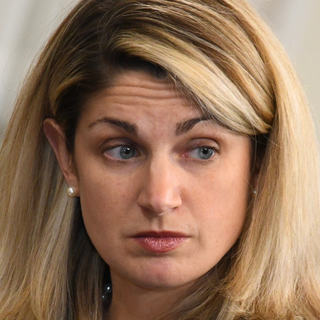eye: (92, 139, 143, 164), (175, 141, 221, 164)
